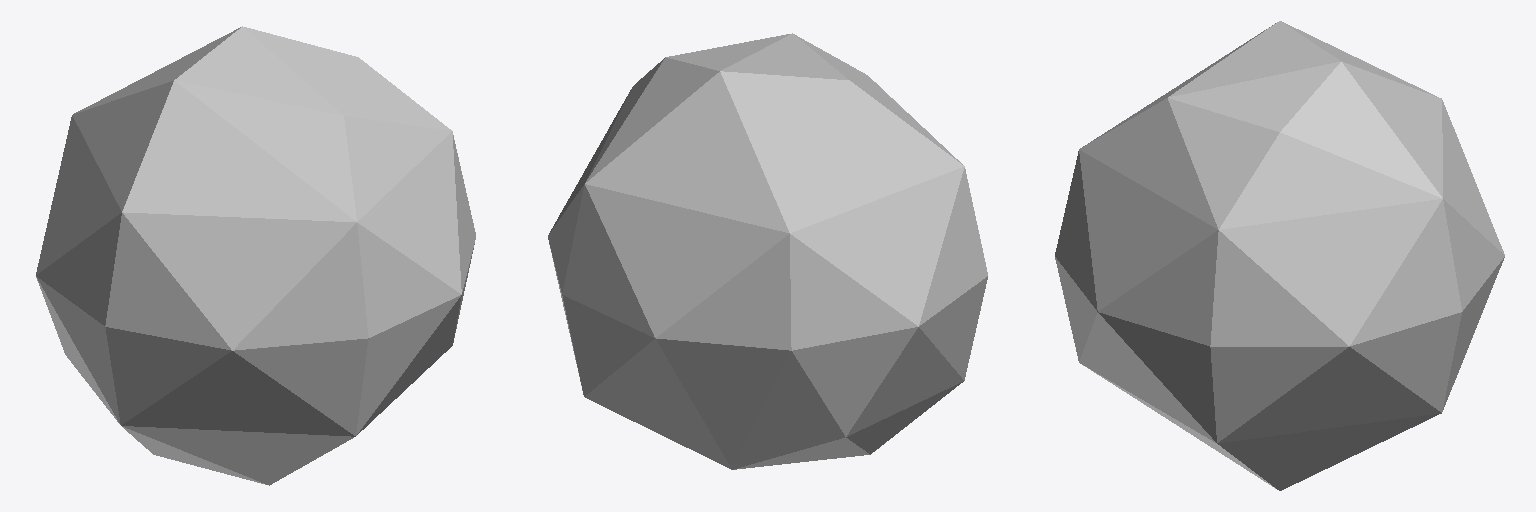
The model's file is smoke4.obj.
3 views of the same model, side by side, from view 1: azimuth 30°, elevation 25°; view 2: azimuth 150°, elevation 25°; view 3: azimuth 270°, elevation 25° (orthographic).
Parts seen in each view (by area): view 1: Icosphere_Icosphere.001; view 2: Icosphere_Icosphere.001; view 3: Icosphere_Icosphere.001.
Boxes of the visible parts, <box> form: Icosphere_Icosphere.001: <box>36,26,475,485</box>; Icosphere_Icosphere.001: <box>548,33,987,469</box>; Icosphere_Icosphere.001: <box>1055,21,1504,490</box>.
Size of the model in its own units: 1.03 by 1.08 by 1.09.